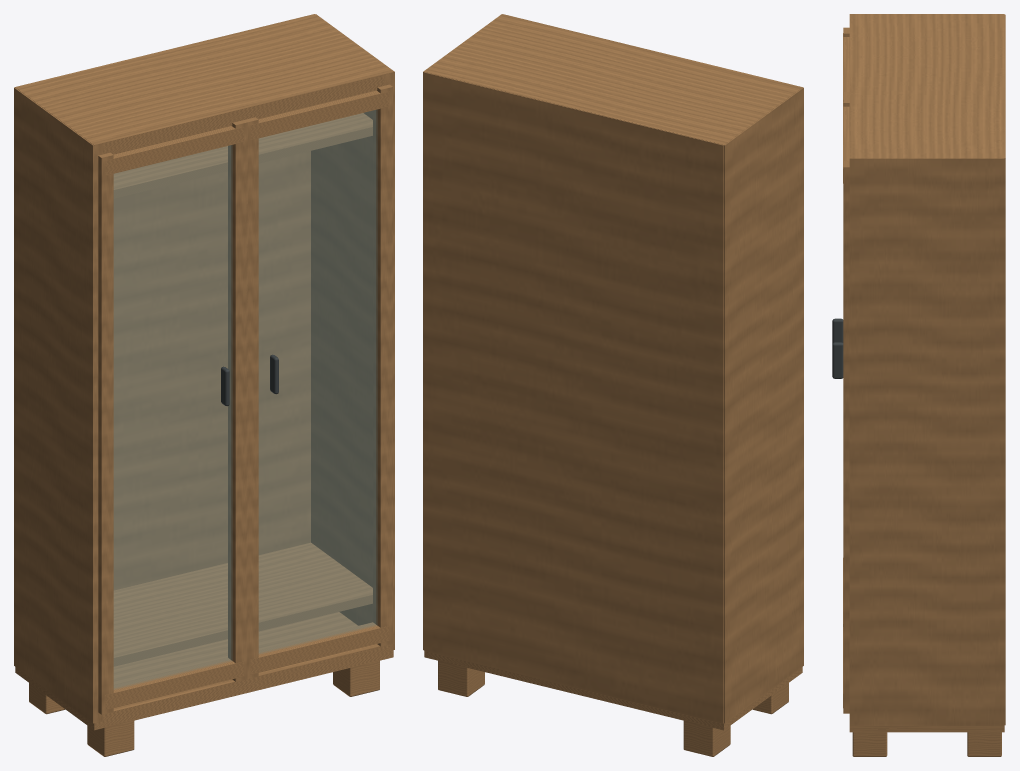
Rendered from display-cabinet-73931189849f.glb.
3 views of the same model, side by side, from view 1: azimuth 30°, elevation 25°; view 2: azimuth 150°, elevation 25°; view 3: azimuth 270°, elevation 25° (orthographic).
Parts seen in each view (by area): view 1: surface_oak, surface_Optical_smoke, surface_graphite; view 2: surface_oak; view 3: surface_oak, surface_graphite.
Part boxes in pixels (x1,y1,x2,y2): surface_oak: [14, 14, 394, 756]; surface_Optical_smoke: [114, 110, 376, 689]; surface_graphite: [221, 354, 278, 406]; surface_oak: [423, 14, 803, 756]; surface_oak: [843, 14, 1005, 756]; surface_graphite: [832, 318, 843, 378].
Size of the model in its own units: 0.8612 by 1.68 by 0.4361.
3 materials, 1 textured.
